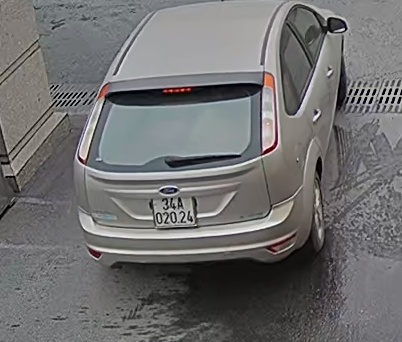vehicle plate: (152, 194, 202, 231)
